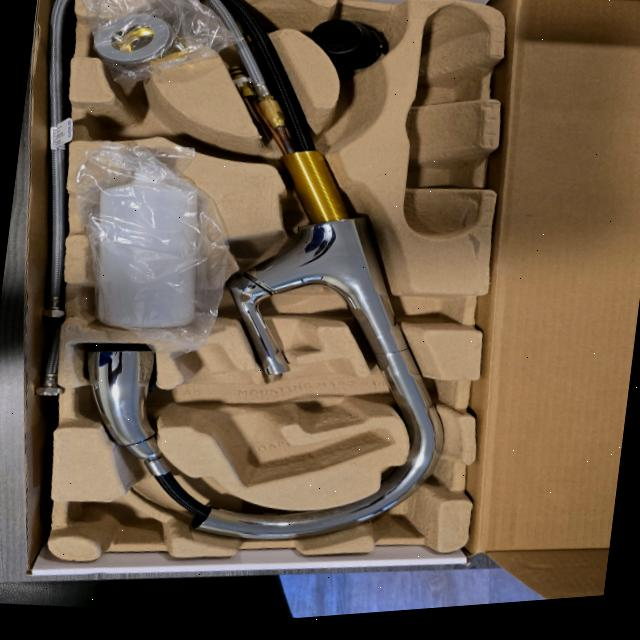1: (86, 0, 447, 540)
2m: (173, 344, 397, 486)
3: (97, 157, 198, 328)
4m: (404, 4, 484, 237)
5: (311, 21, 390, 70)
6: (73, 0, 248, 95)
7m: (79, 82, 233, 150)
